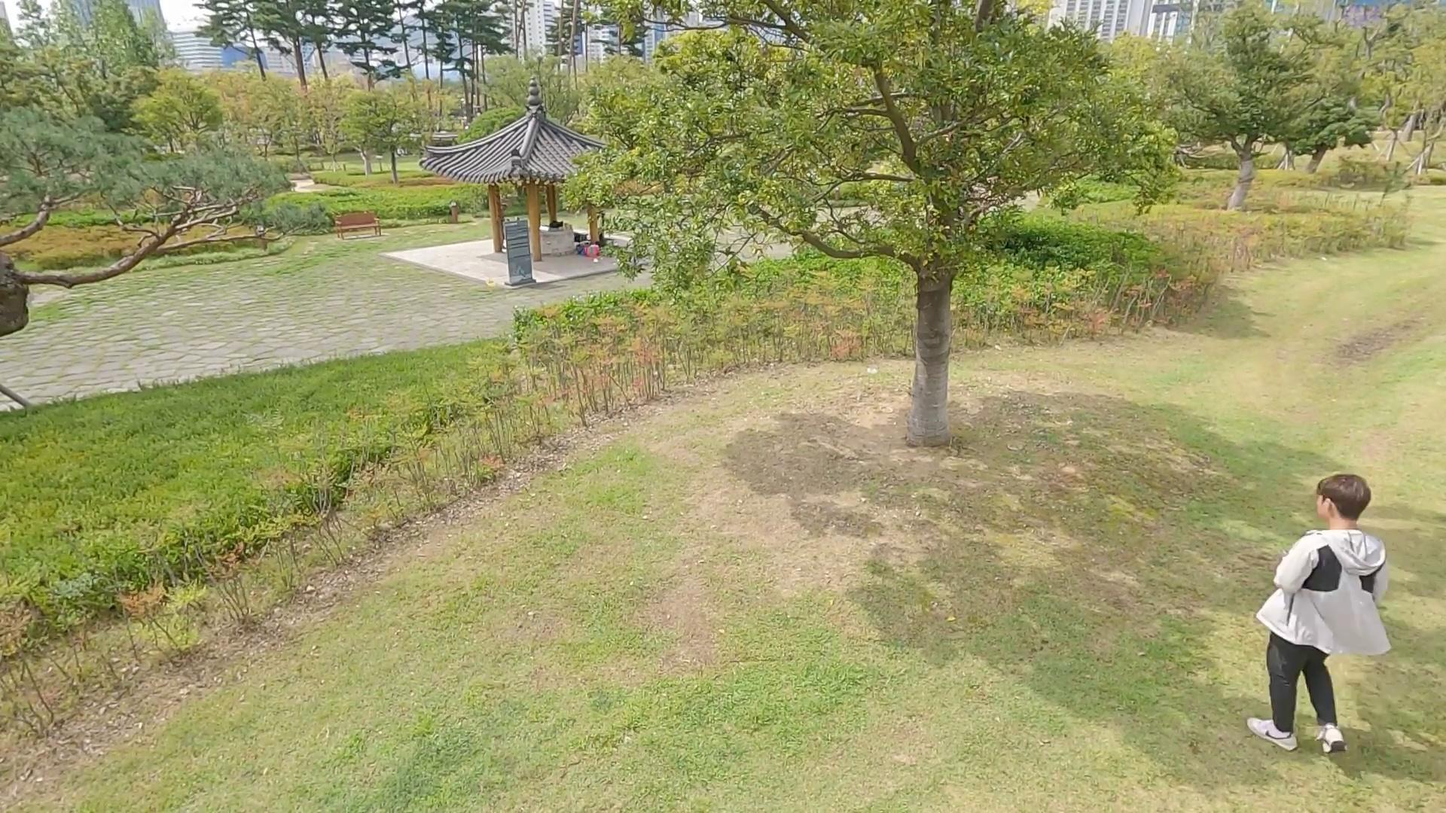person: (1245, 469, 1401, 761)
